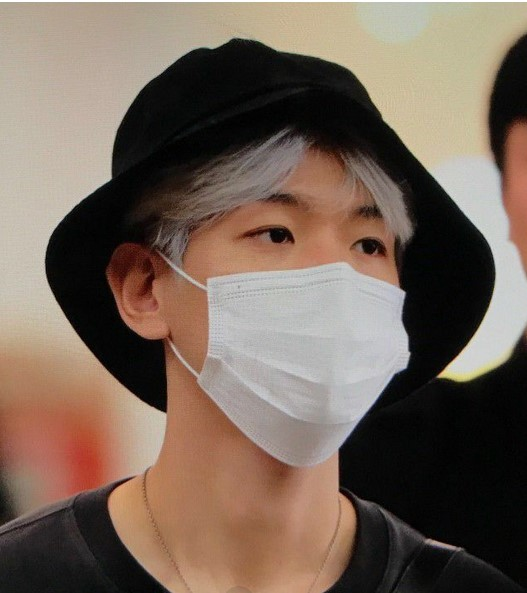face_with_mask: (48, 42, 495, 475)
